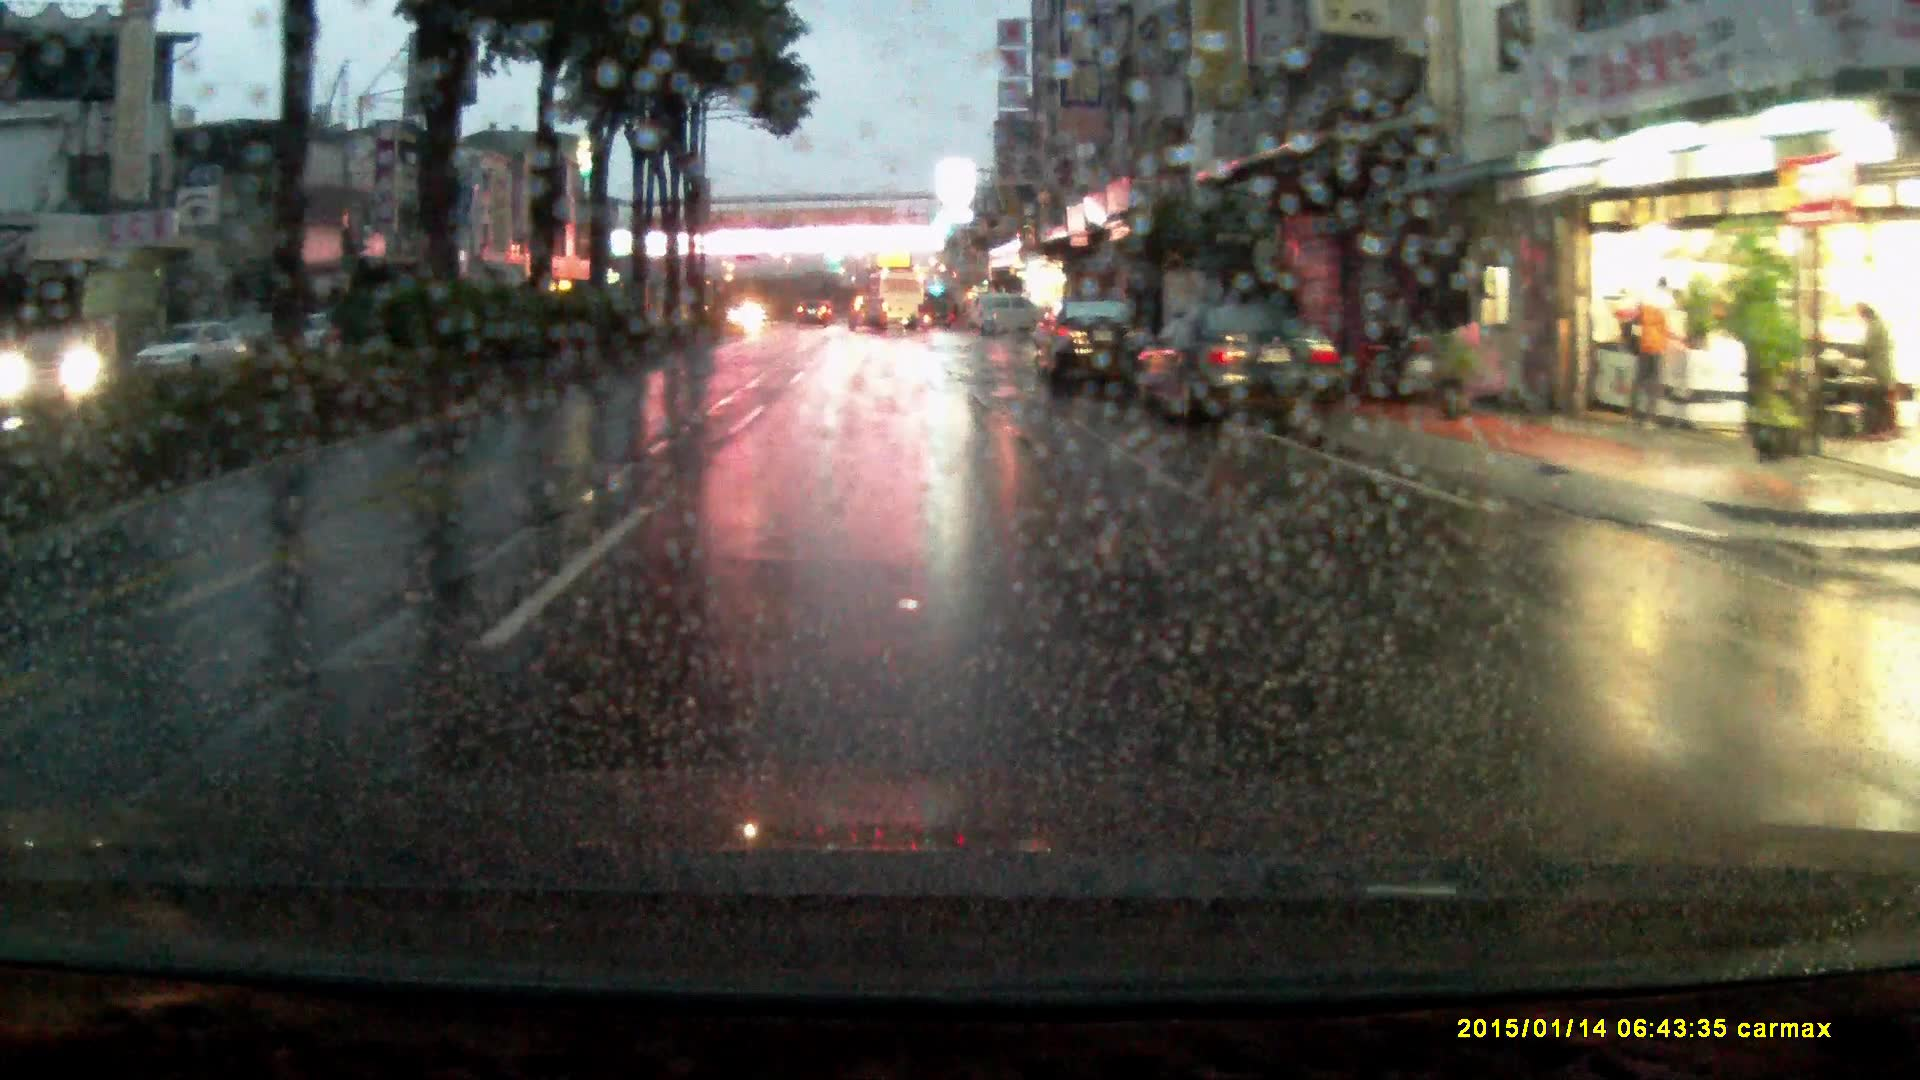vehicle: (1126, 303, 1346, 434), (1040, 298, 1159, 405), (135, 318, 255, 386), (969, 295, 1051, 342), (866, 276, 924, 334), (848, 294, 889, 334), (796, 301, 829, 328)
